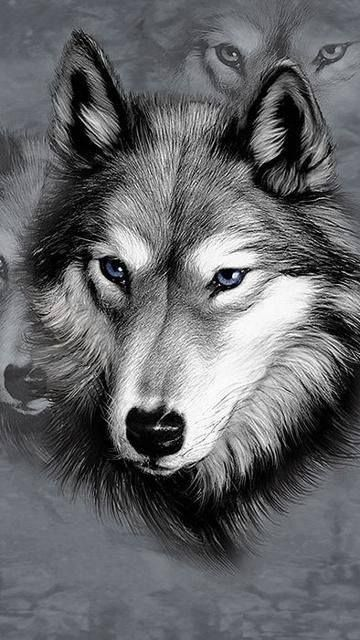Lobo: (42, 21, 340, 542)
